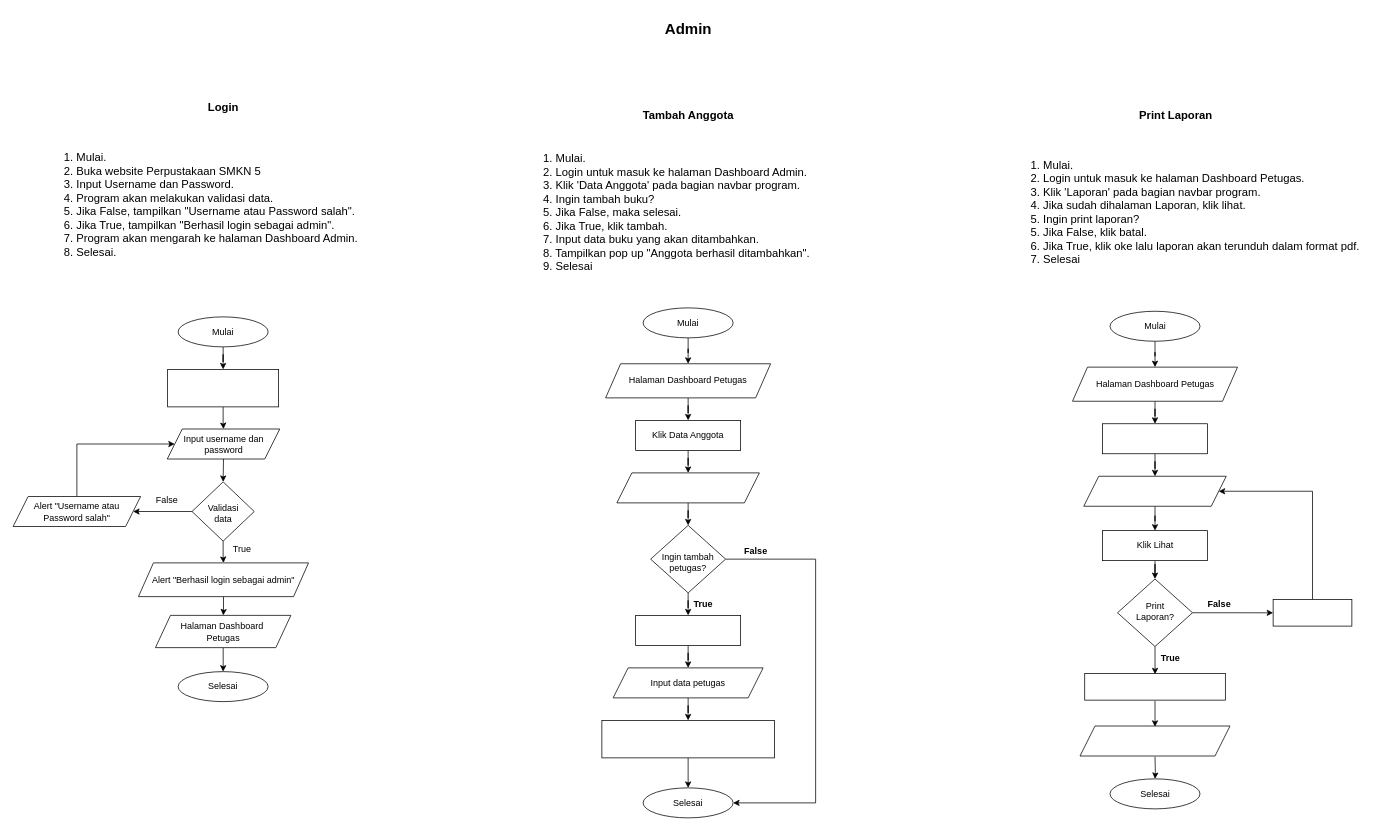
Some shapes in this 1388 by 831 pixel diagram are drawn without their labels. Each missing label, with the centre of its shape:
Buka website Perpustakaan Digital: point (223, 388)
Halaman Data Anggota: point (687, 487)
Halaman Laporan: point (1154, 491)
Klik batal: point (1312, 612)
Klik Laporan: point (1155, 438)
Klik oke: point (1154, 686)
Klik Tambah: point (688, 630)
Laporan terunduh (pdf): point (1154, 740)
Program akan menampilkan pop up "Petugas berhasil ditambahkan": point (687, 739)
